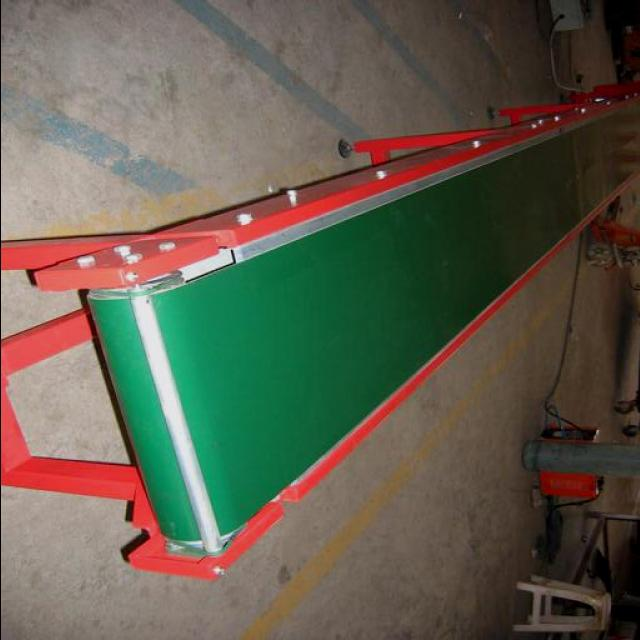conveyor: (86, 100, 640, 550)
